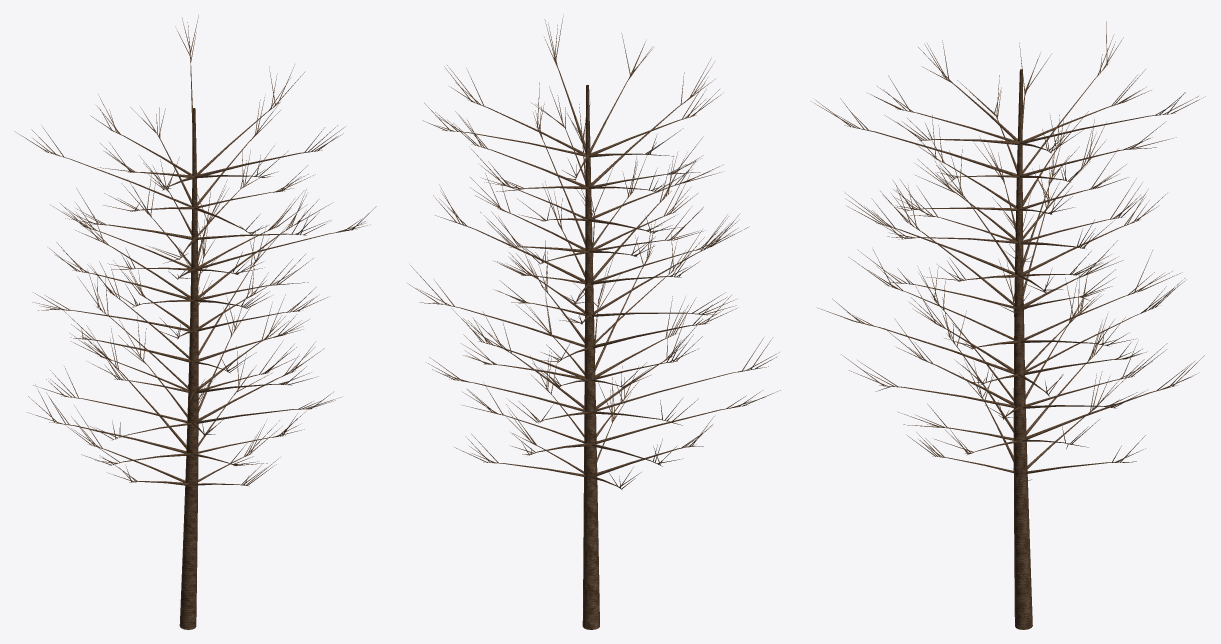
Rendered from aspen.obj.
3 renders of one model, left to right at view 1: azimuth 30°, elevation 25°; view 2: azimuth 150°, elevation 25°; view 3: azimuth 270°, elevation 25°, orthographic. The views are drawn at different scales.
Parts seen in each view (by area): view 1: aspen; view 2: aspen; view 3: aspen.
Part boxes in pixels (<box>): aspen: <box>14,15,376,629</box>; aspen: <box>407,14,780,629</box>; aspen: <box>811,21,1205,629</box>.
Bounding box in the file's own units: 10.74 × 18.88 × 11.7.
2 materials, 2 textured.
